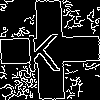K: (25, 25, 60, 72)
